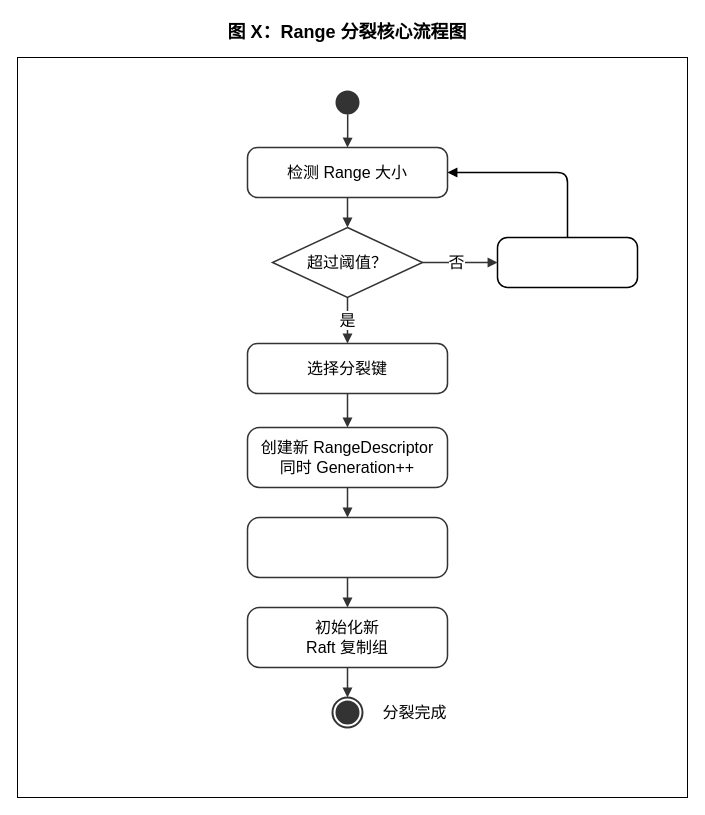
Some shapes in this 705 by 815 pixel diagram are drawn without their labels. Here are the shapes that lost their labels. From the top down, the centre of each, then its label:
At pixel 567 262: "继续监控".
At pixel 347 547: "分布式事务更新".
